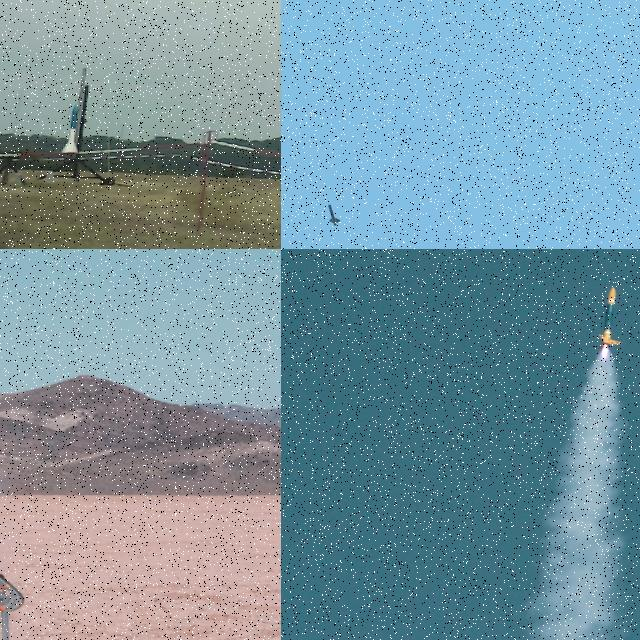Rocket: (596, 286, 622, 349), (61, 104, 79, 153), (326, 202, 342, 226)
